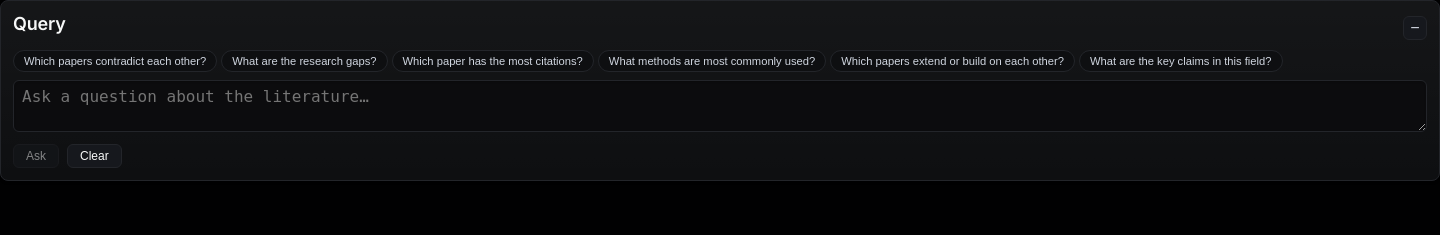
it: QueryInterface › shows the "could not interpret" message on a 400 response
Type "q" into the text box with test id "query-input" at (720, 106), box [13,80,1427,132]
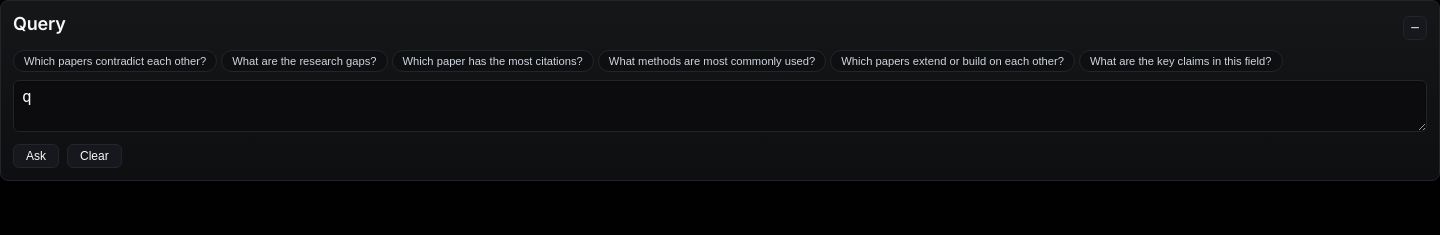
Click the button with test id "query-ask" at (36, 156), box [13,144,59,168]
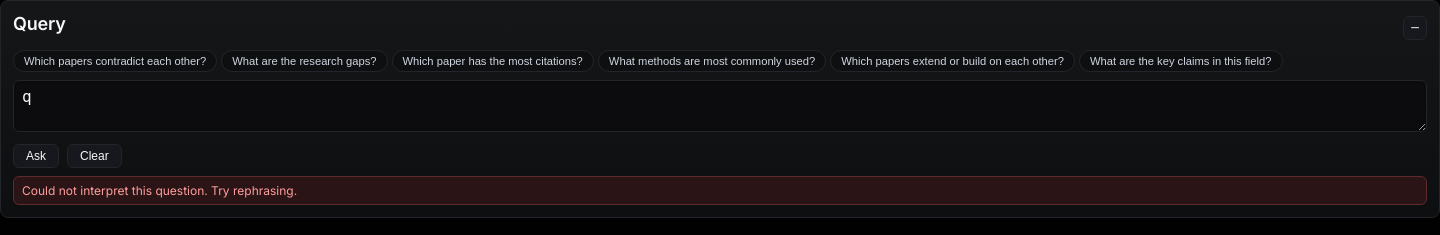
Result: the text with test id "query-error" reads "Could not interpret this question. Try rephrasing." at [22,183,297,198]
